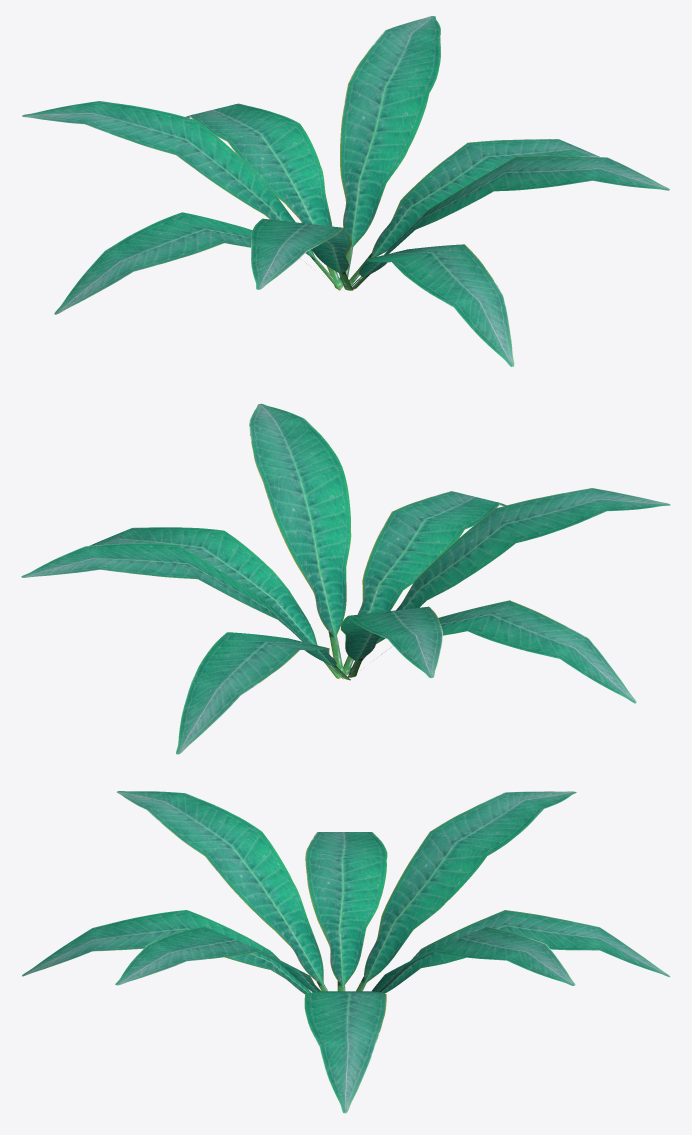
File: Farn02.fbx
The picture shows the model from 3 angles, top to bottom: view 1: azimuth 30°, elevation 25°; view 2: azimuth 150°, elevation 25°; view 3: azimuth 270°, elevation 25°; orthographic projection. The views are drawn at different scales.
Parts seen in each view (by area): view 1: Plane; view 2: Plane; view 3: Plane.
Boxes of the visible parts, x1=… form: Plane: x1=22, y1=16, x2=669, y2=366; Plane: x1=21, y1=403, x2=670, y2=754; Plane: x1=22, y1=791, x2=669, y2=1113.
Size of the model in its own units: 593 by 145 by 593.
